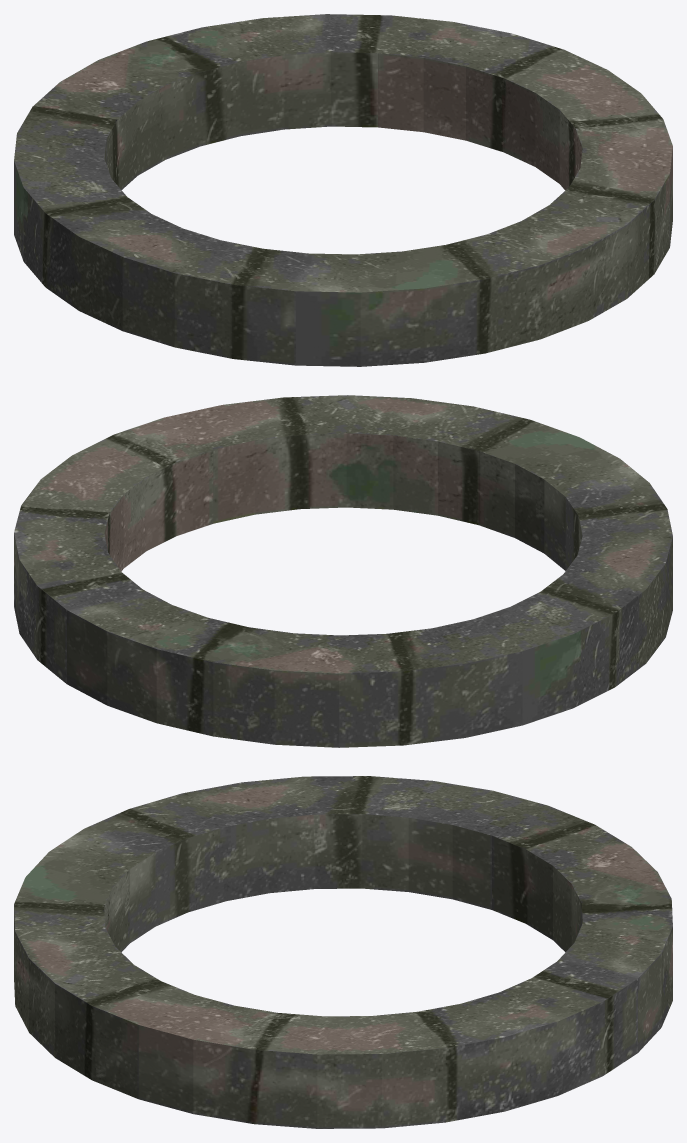
The model's file is StoneWell_part_25.fbx.
3 views of the same model, one above another, from view 1: azimuth 30°, elevation 25°; view 2: azimuth 150°, elevation 25°; view 3: azimuth 270°, elevation 25° (orthographic).
Parts seen in each view (by area): view 1: Cylinder_Brick_0.001; view 2: Cylinder_Brick_0.001; view 3: Cylinder_Brick_0.001.
Part boxes in pixels (<box>): Cylinder_Brick_0.001: <box>14,14,672,366</box>; Cylinder_Brick_0.001: <box>14,395,672,747</box>; Cylinder_Brick_0.001: <box>14,776,672,1128</box>.
Bounding box in the file's own units: 853 × 106 × 853.
